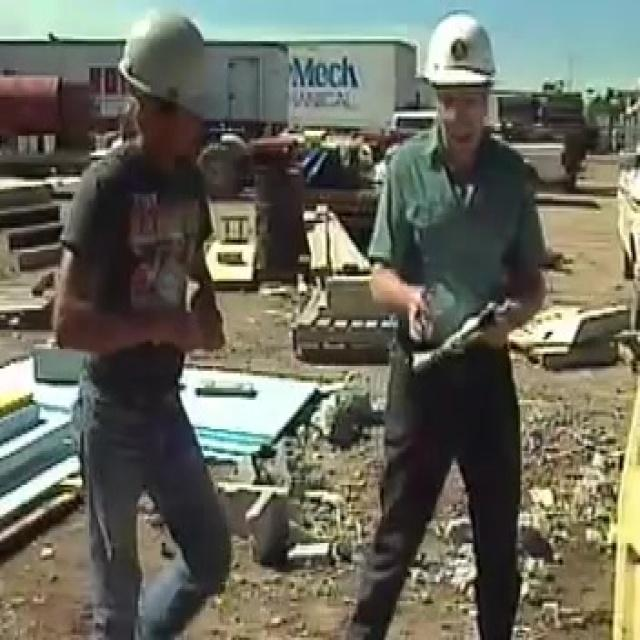helmet: (118, 13, 218, 152), (419, 10, 504, 126)
